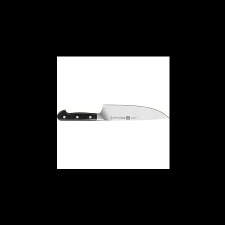k1: (91, 102, 169, 123)
